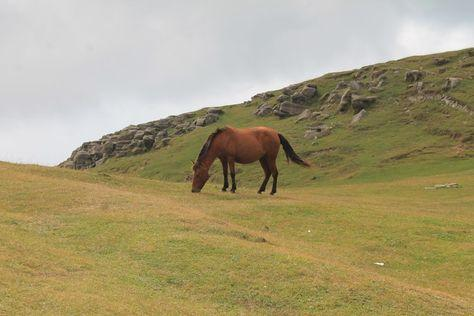horse: (190, 124, 310, 195)
